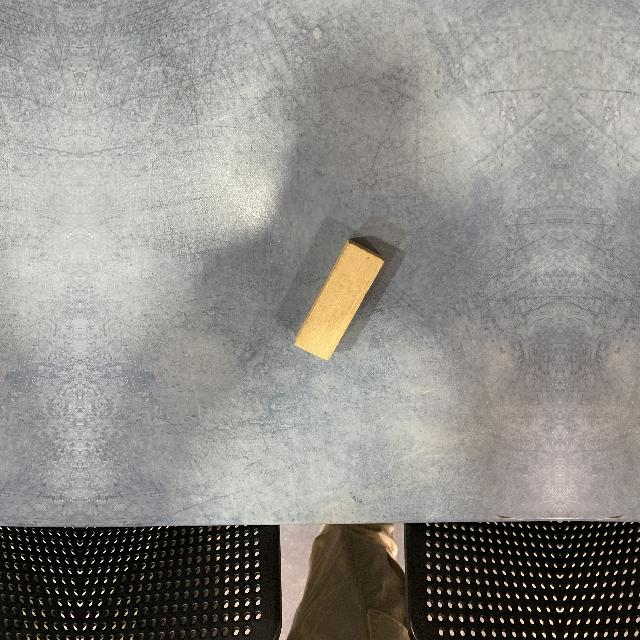jenga: (295, 240, 385, 361)
